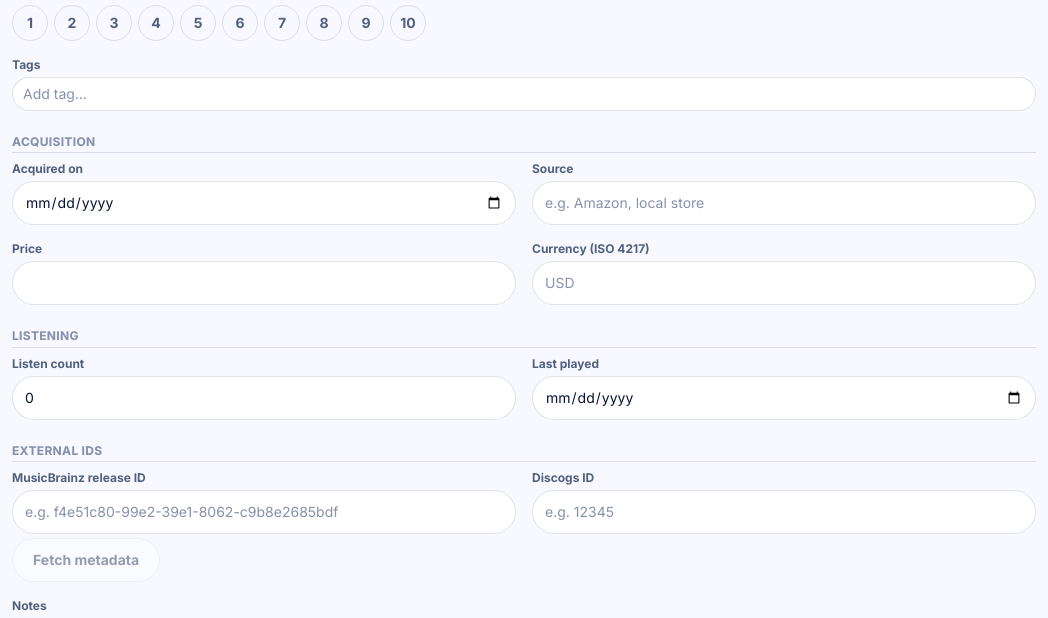
Test: AlbumForm — Fetch metadata by MusicBrainz Release ID › shows a hint when the provider reports not-configured
(page scrolled)
Type "abc" into the field with placeholder "e.g. f4e51c80-99e2-39e1-8062-c9b8e2685bdf" at (264, 512), box [12,490,516,534]
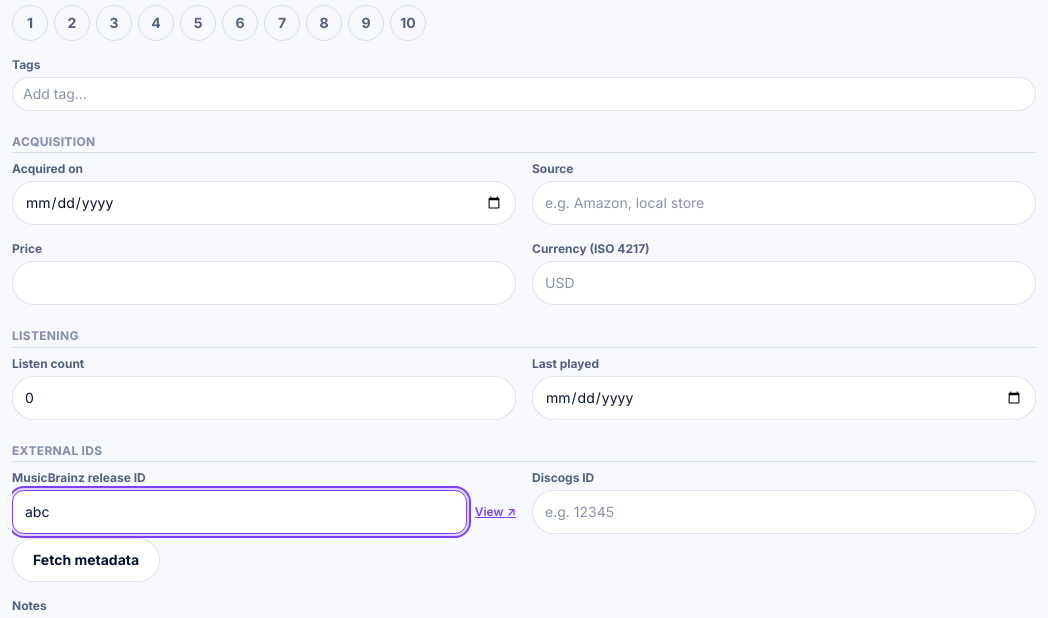
Click the button with aria-label "fetch metadata by musicbrainz release id" at (86, 560), box [12,538,160,582]
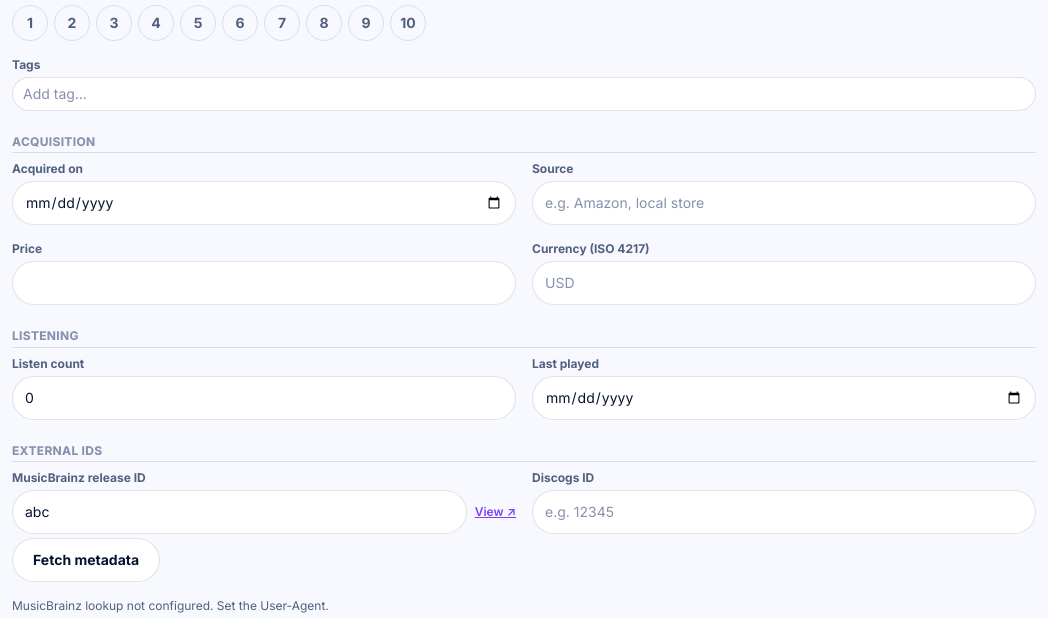
expect the text "MusicBrainz lookup not configured. Set the User-Agent." is shown: met, box [12,598,329,613]
